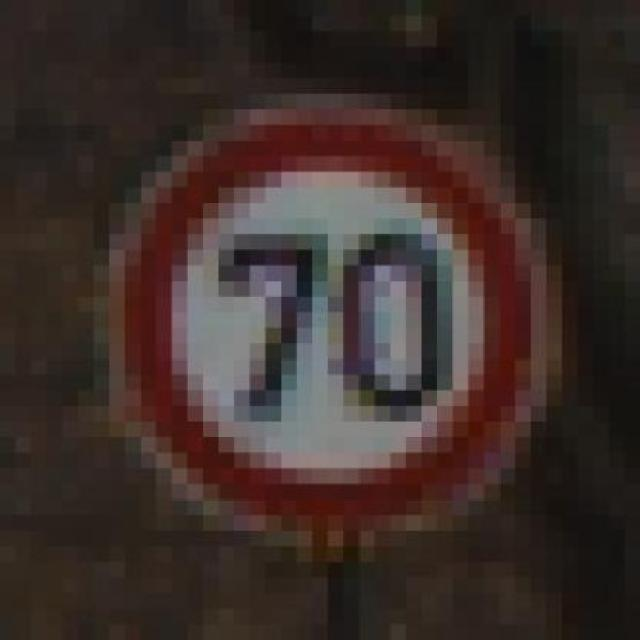forb_speed_over_70: (112, 108, 537, 526)
